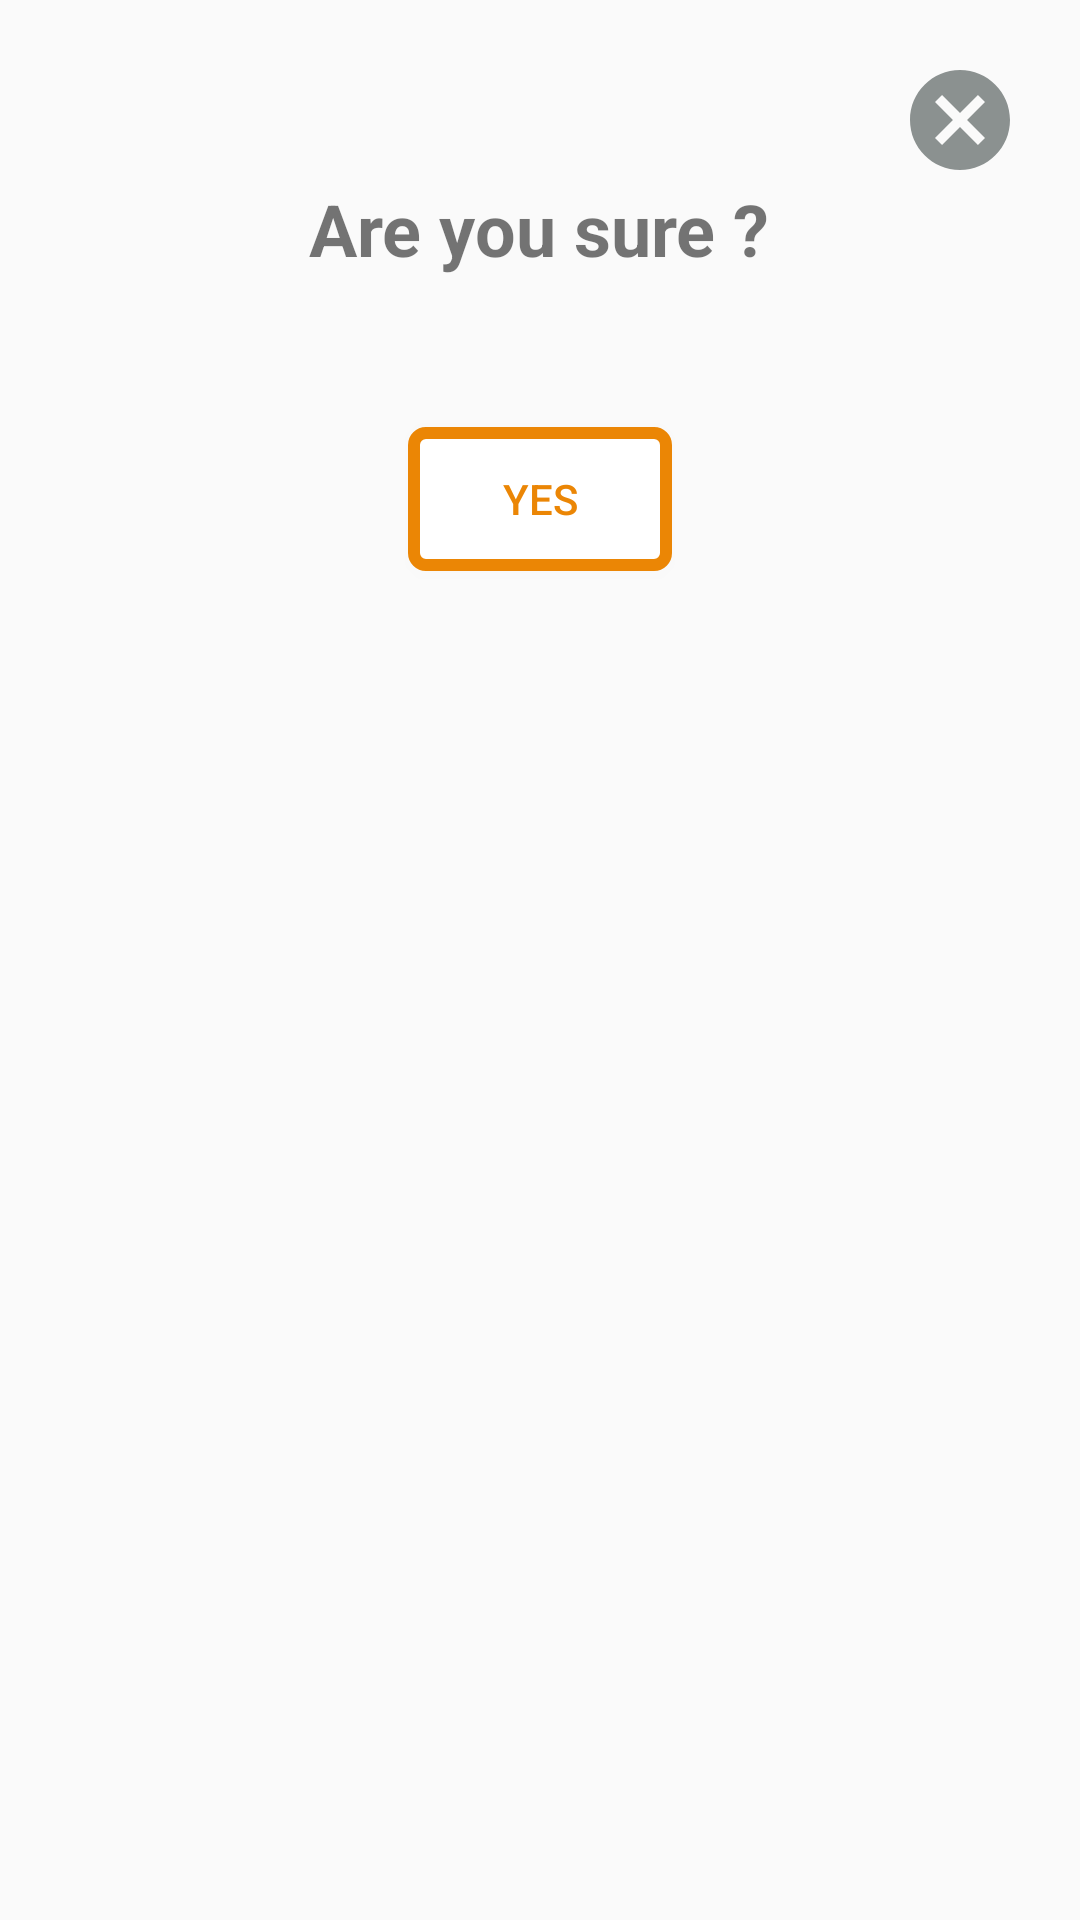

Icon bounding boxes for this 1080x1920 phone screenshot, format (x1, y1, x2, y2):
cancel: (910, 70, 1010, 170)
